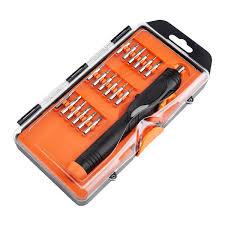screwdriver: (66, 62, 184, 179), (59, 93, 80, 114), (82, 114, 102, 134), (66, 99, 86, 119), (53, 88, 74, 107), (71, 104, 90, 124), (108, 81, 127, 100), (133, 49, 151, 69), (76, 110, 95, 128), (102, 77, 120, 95), (98, 72, 116, 90), (127, 45, 145, 63), (137, 54, 156, 71), (114, 86, 131, 104), (85, 62, 103, 79), (143, 59, 161, 76), (115, 36, 132, 54), (92, 68, 110, 84), (121, 42, 137, 58)
